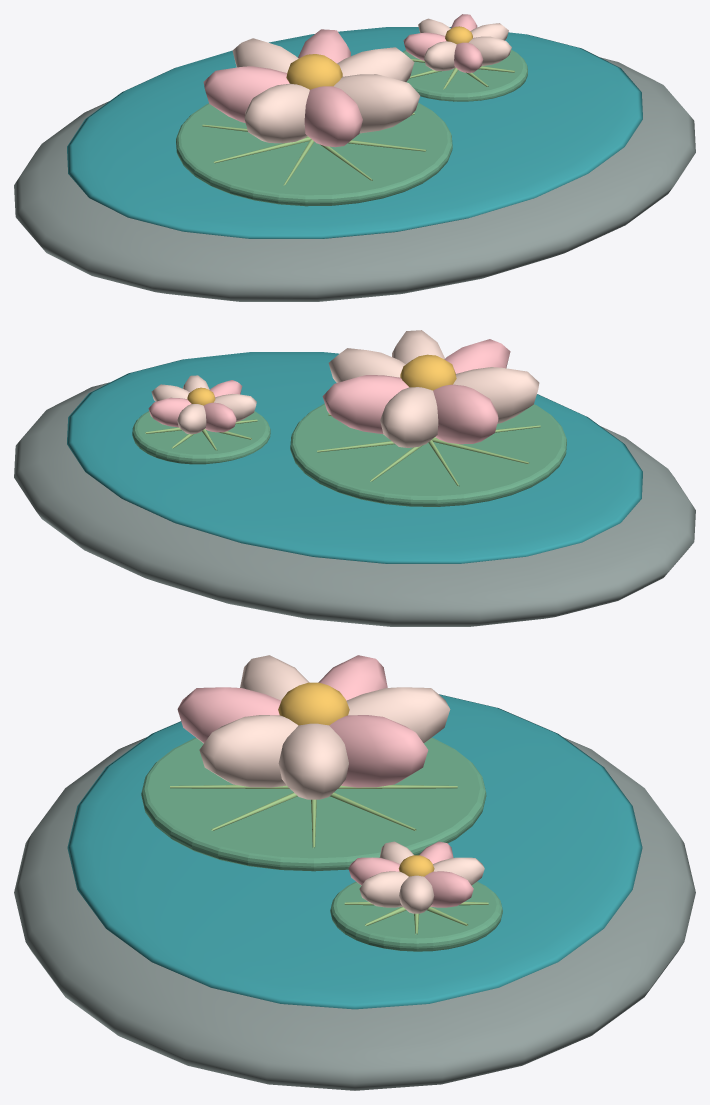
The model's file is heaven_decor_c.glb.
3 renders of one model, top to bottom at view 1: azimuth 30°, elevation 25°; view 2: azimuth 150°, elevation 25°; view 3: azimuth 270°, elevation 25°, orthographic. The views are drawn at different scales.
Visible parts, largest first — view 1: Merged Pond celadon reflection, Merged Garden slate stone, Merged Peach leaf celadon, Merged Ivory petal tips, Merged Light blush blossom, Merged Pollen warm gold, Merged Leaf sunlit side; view 2: Merged Pond celadon reflection, Merged Garden slate stone, Merged Peach leaf celadon, Merged Ivory petal tips, Merged Light blush blossom, Merged Pollen warm gold, Merged Leaf sunlit side; view 3: Merged Pond celadon reflection, Merged Garden slate stone, Merged Peach leaf celadon, Merged Ivory petal tips, Merged Light blush blossom, Merged Pollen warm gold, Merged Leaf sunlit side.
Part boxes in pixels (x1,y1,x2,y2): Merged Pond celadon reflection: (67,27,642,238); Merged Garden slate stone: (14,57,695,301); Merged Peach leaf celadon: (176,49,527,206); Merged Ivory petal tips: (232,18,511,143); Merged Light blush blossom: (203,14,483,147); Merged Pollen warm gold: (286,26,472,89); Merged Leaf sunlit side: (202,59,514,185); Merged Pond celadon reflection: (67,352,642,563); Merged Garden slate stone: (14,382,695,626); Merged Peach leaf celadon: (132,403,566,506); Merged Ivory petal tips: (151,330,539,447); Merged Light blush blossom: (148,339,510,444); Merged Pollen warm gold: (187,354,456,405); Merged Leaf sunlit side: (145,413,540,486); Merged Pond celadon reflection: (67,694,642,1009); Merged Garden slate stone: (14,737,695,1090); Merged Peach leaf celadon: (141,737,502,951); Merged Ivory petal tips: (199,655,484,913); Merged Light blush blossom: (177,655,473,907); Merged Pollen warm gold: (278,682,434,876); Merged Leaf sunlit side: (170,785,488,934).
Size of the model in its own units: 2.2 by 0.61 by 1.66.
